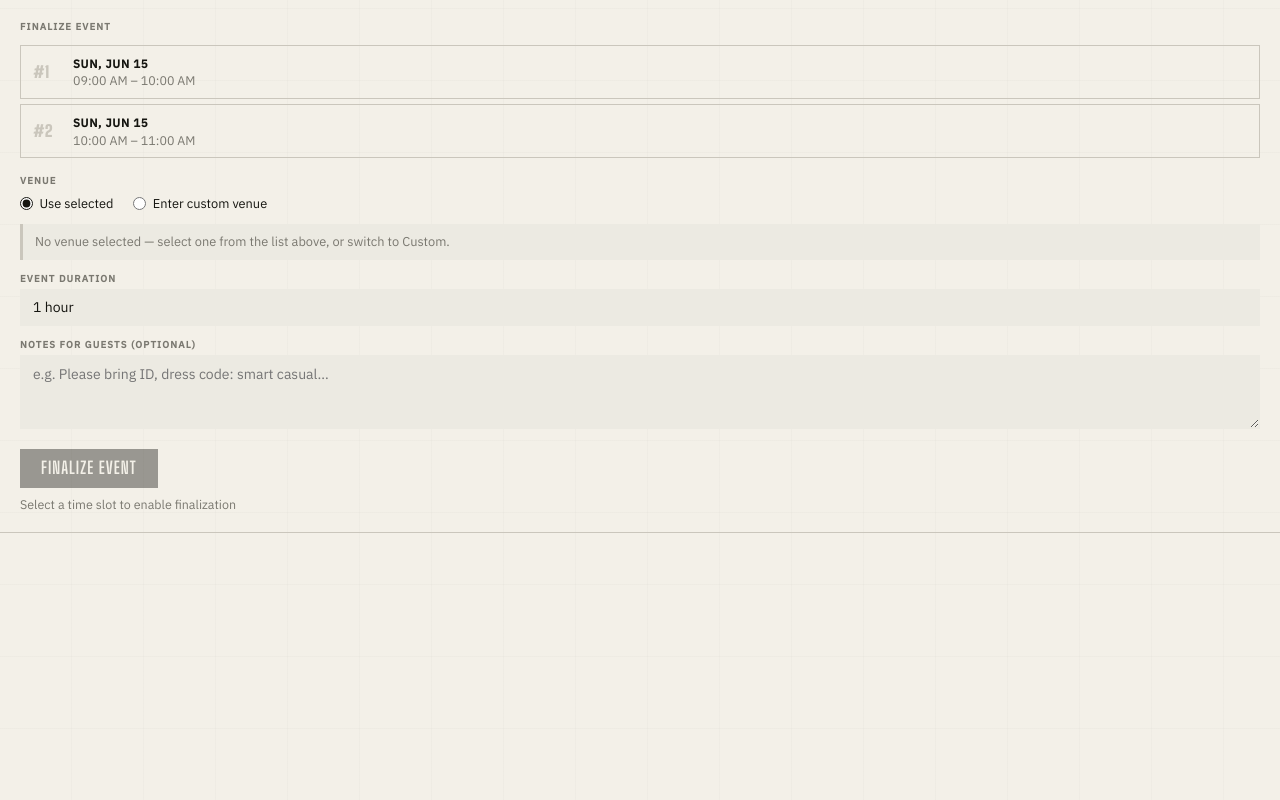
FinalizePanel › clicking Cancel in the confirmation modal hides it
Click the button with test id "slot-card-slot-1" at (111, 63), box [20, 45, 1260, 99]
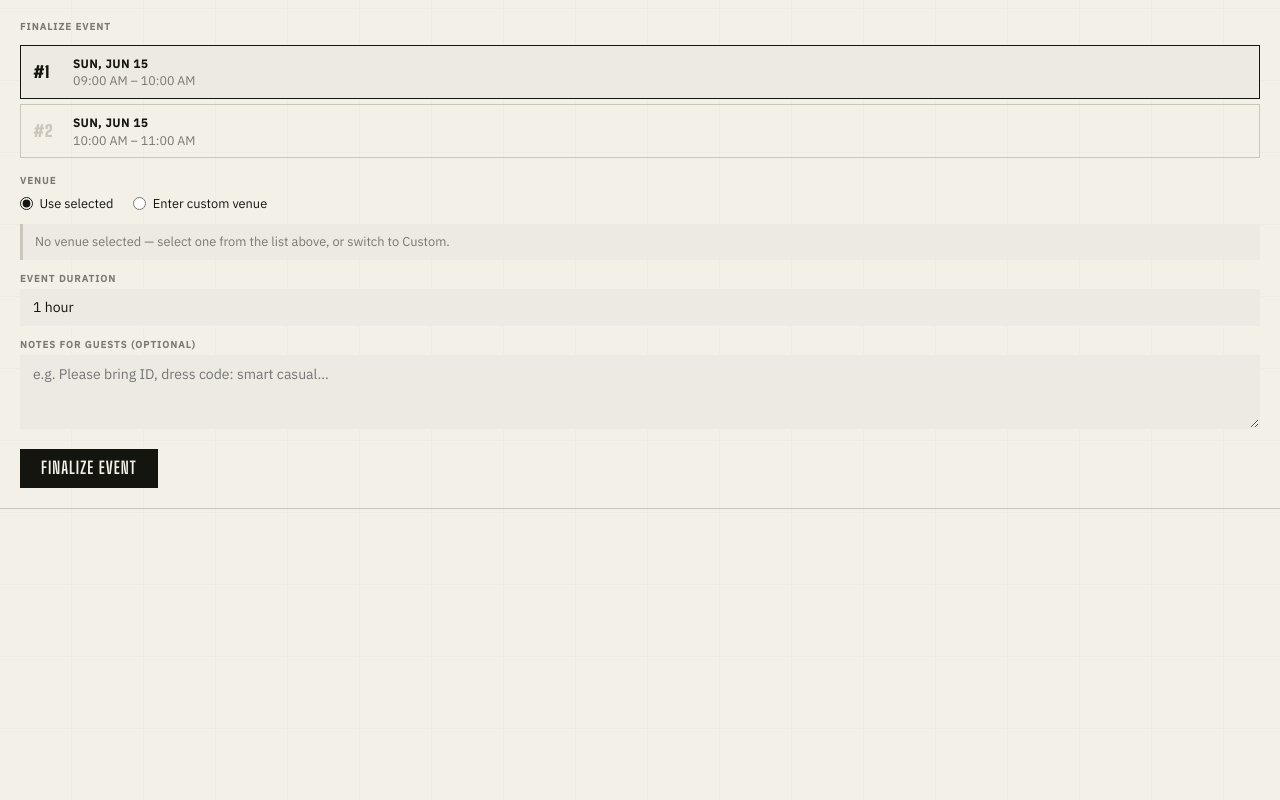
Click the button with test id "finalize-btn" at (89, 469), box [20, 449, 158, 488]
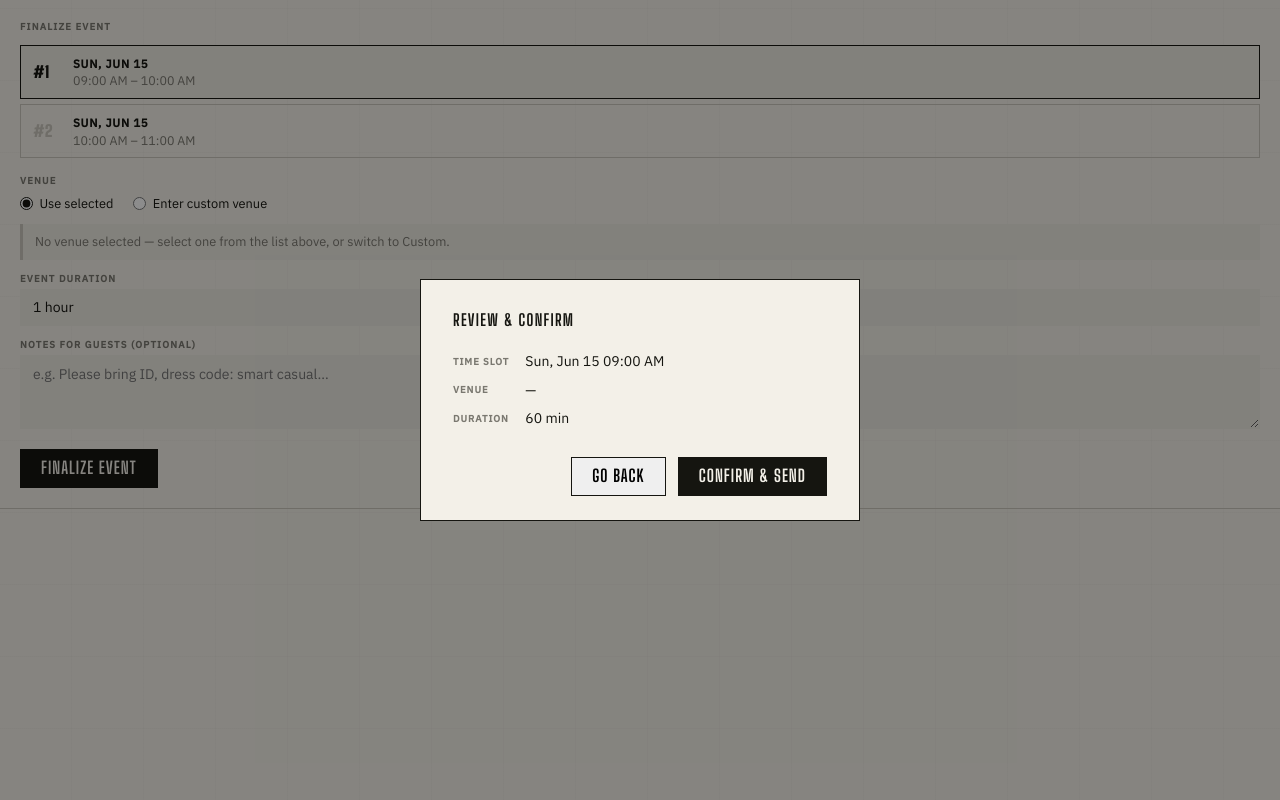
Check: the dialog with test id "finalize-confirm-modal" is shown
Click the button with test id "confirm-cancel-btn" at (618, 477), box [571, 457, 666, 496]
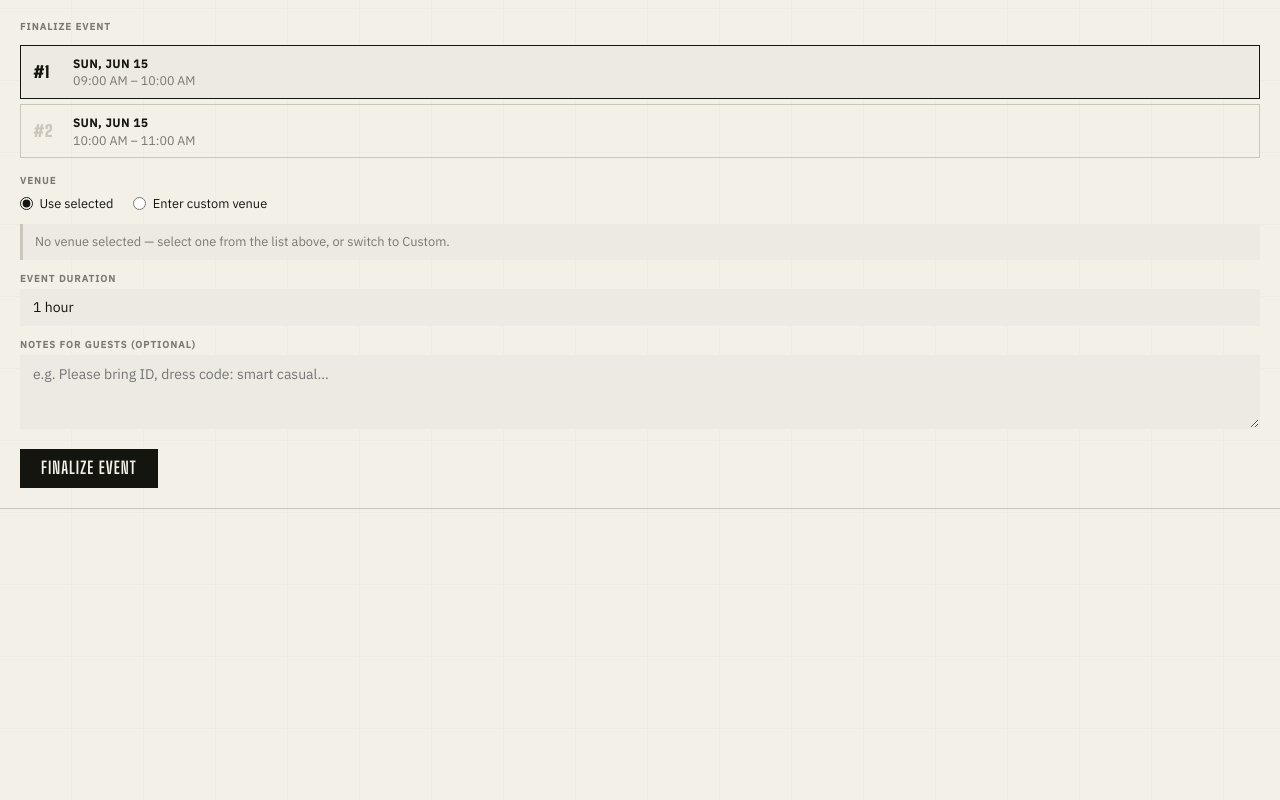
Check: the dialog with test id "finalize-confirm-modal" is gone
